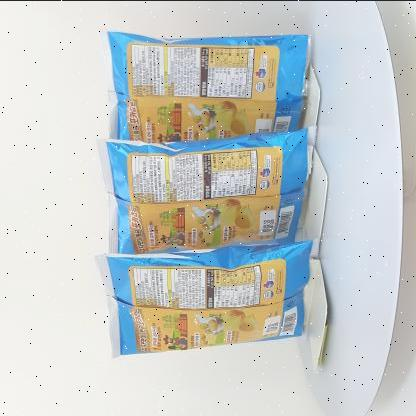Others: (92, 17, 328, 367)
